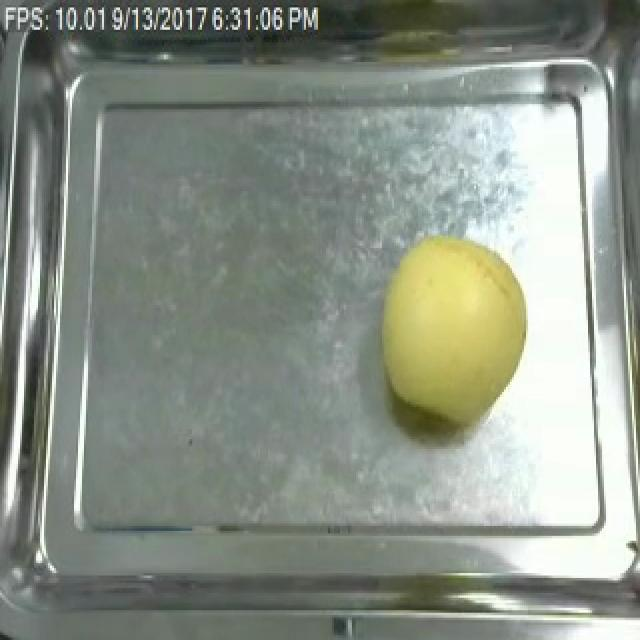Fruit: (368, 226, 536, 429)
